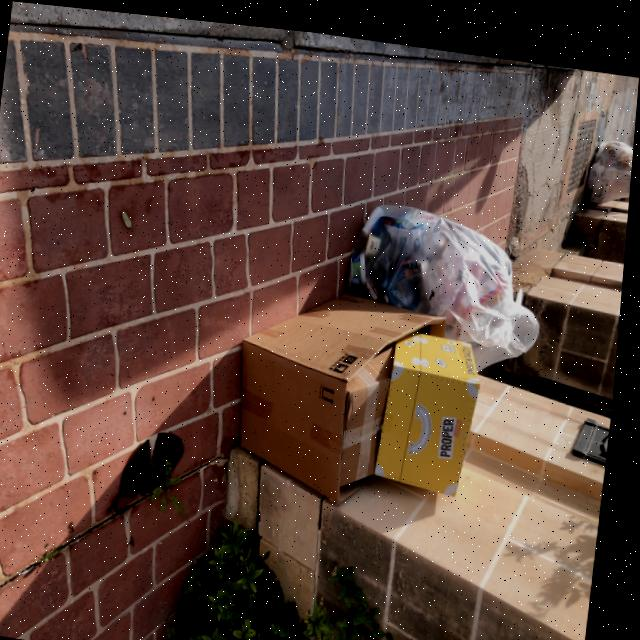Organic Waste -White Bag-: (347, 193, 543, 365)
Other: (233, 280, 485, 508)
